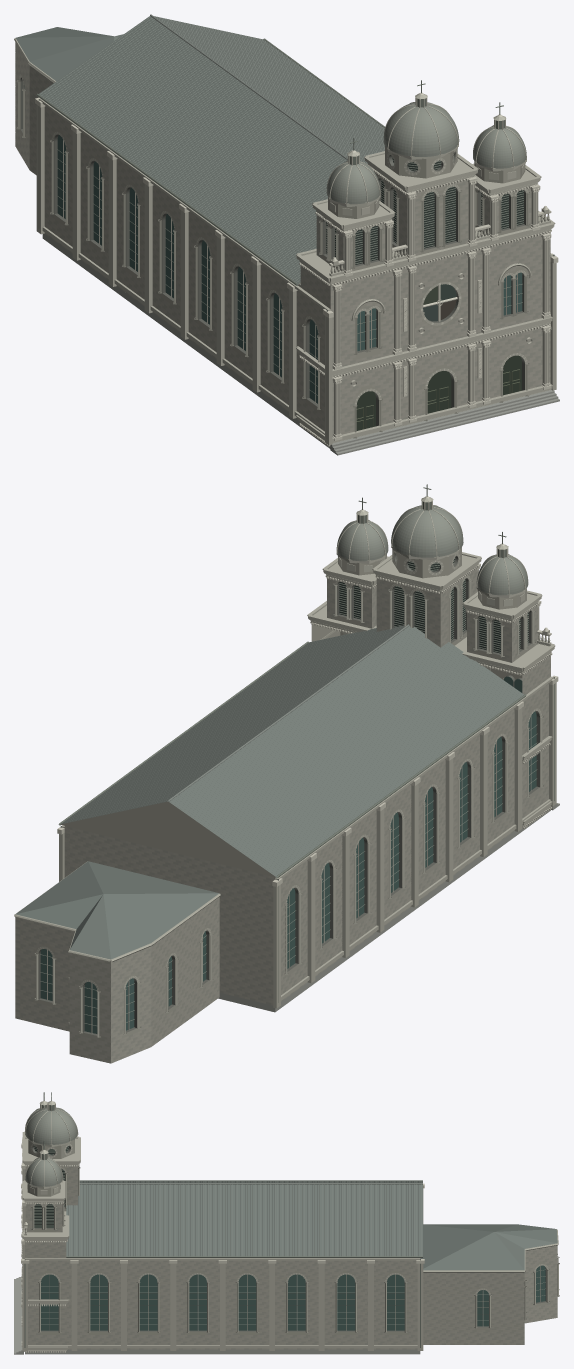
The model's file is cathedral-detail.glb.
The picture shows the model from 3 angles, top to bottom: view 1: azimuth 30°, elevation 25°; view 2: azimuth 150°, elevation 25°; view 3: azimuth 270°, elevation 25°; orthographic projection. The views are drawn at different scales.
Parts seen in each view (by area): view 1: cathedral roof.001, cathedral stone.001, cathedral roofRib.001, cathedral brick.001, cathedral brick0, cathedral brick1, cathedral brick2, cathedral stoneLight.001, cathedral dome.001, cathedral glass.001, cathedral reveal.001, cathedral foundation.001 (+3 smaller); view 2: cathedral roof.001, cathedral roofRib.001, cathedral stone.001, cathedral brick.001, cathedral brick0, cathedral brick1, cathedral brick2, cathedral glass.001, cathedral dome.001, cathedral reveal.001, cathedral metal.001, cathedral stoneLight.001 (+2 smaller); view 3: cathedral roof.001, cathedral stone.001, cathedral brick0, cathedral brick1, cathedral brick2, cathedral roofRib.001, cathedral brick.001, cathedral glass.001, cathedral metal.001, cathedral foundation.001, cathedral dome.001, cathedral stoneLight.001 (+2 smaller).
Part boxes in pixels (x1=…): cathedral roof.001: x1=16, y1=16, x2=384, y2=284; cathedral stone.001: x1=14, y1=38, x2=556, y2=445; cathedral roofRib.001: x1=39, y1=14, x2=384, y2=282; cathedral brick.001: x1=16, y1=49, x2=550, y2=434; cathedral brick0: x1=15, y1=43, x2=550, y2=436; cathedral brick1: x1=15, y1=44, x2=550, y2=434; cathedral brick2: x1=15, y1=42, x2=550, y2=433; cathedral stoneLight.001: x1=19, y1=74, x2=558, y2=446; cathedral dome.001: x1=326, y1=102, x2=526, y2=204; cathedral glass.001: x1=24, y1=85, x2=522, y2=403; cathedral reveal.001: x1=20, y1=77, x2=525, y2=426; cathedral foundation.001: x1=42, y1=233, x2=559, y2=455; cathedral roof.001: x1=15, y1=626, x2=523, y2=959; cathedral roofRib.001: x1=61, y1=624, x2=522, y2=875; cathedral stone.001: x1=14, y1=497, x2=556, y2=1037; cathedral brick.001: x1=15, y1=547, x2=550, y2=1061; cathedral brick0: x1=15, y1=568, x2=550, y2=1063; cathedral brick1: x1=15, y1=570, x2=550, y2=1063; cathedral brick2: x1=15, y1=567, x2=550, y2=1063; cathedral glass.001: x1=40, y1=676, x2=536, y2=1033; cathedral dome.001: x1=336, y1=505, x2=528, y2=595; cathedral reveal.001: x1=38, y1=553, x2=539, y2=1035; cathedral metal.001: x1=40, y1=484, x2=554, y2=1026; cathedral stoneLight.001: x1=36, y1=496, x2=558, y2=991; cathedral roof.001: x1=66, y1=1181, x2=557, y2=1270; cathedral stone.001: x1=22, y1=1101, x2=559, y2=1351; cathedral brick0: x1=25, y1=1165, x2=557, y2=1349; cathedral brick1: x1=25, y1=1165, x2=557, y2=1349; cathedral brick2: x1=25, y1=1165, x2=557, y2=1349; cathedral roofRib.001: x1=68, y1=1181, x2=422, y2=1256; cathedral brick.001: x1=25, y1=1140, x2=557, y2=1349; cathedral glass.001: x1=41, y1=1265, x2=545, y2=1330; cathedral metal.001: x1=24, y1=1092, x2=545, y2=1347; cathedral foundation.001: x1=14, y1=1276, x2=420, y2=1354; cathedral dome.001: x1=25, y1=1107, x2=77, y2=1186; cathedral stoneLight.001: x1=21, y1=1101, x2=548, y2=1352.
Size of the model in its own units: 0.2198 by 0.3 by 0.6599.
